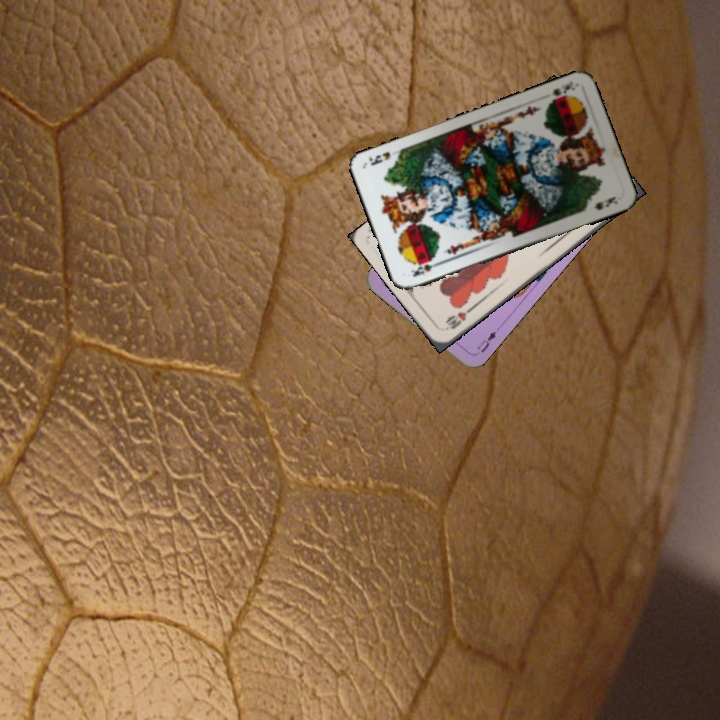EU: (471, 324, 502, 358)
H10: (441, 303, 475, 333)
SK: (543, 76, 578, 106), (407, 257, 444, 280)
